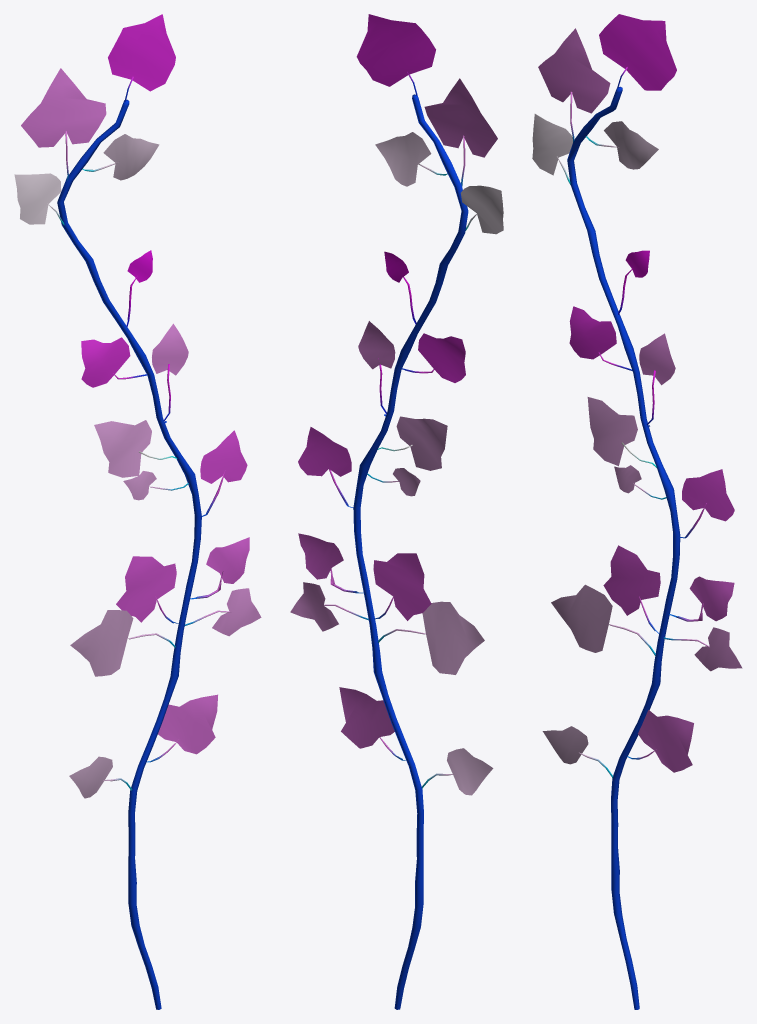
File: English_Ivy_xfcnebhqx_High_xfcnebhqx_VarB_LOD1.fbx
3 views of the same model, side by side, from view 1: azimuth 30°, elevation 25°; view 2: azimuth 150°, elevation 25°; view 3: azimuth 330°, elevation 25° (orthographic).
Parts seen in each view (by area): view 1: _c05y_VarB_LOD1; view 2: _c05y_VarB_LOD1; view 3: _c05y_VarB_LOD1.
Part boxes in pixels (left/top/right/bottom): _c05y_VarB_LOD1: left=14, top=14, right=261, bottom=1009; _c05y_VarB_LOD1: left=290, top=14, right=503, bottom=1009; _c05y_VarB_LOD1: left=532, top=14, right=742, bottom=1009.
Bounding box in the file's own units: 17.79 × 73.44 × 3.26.
